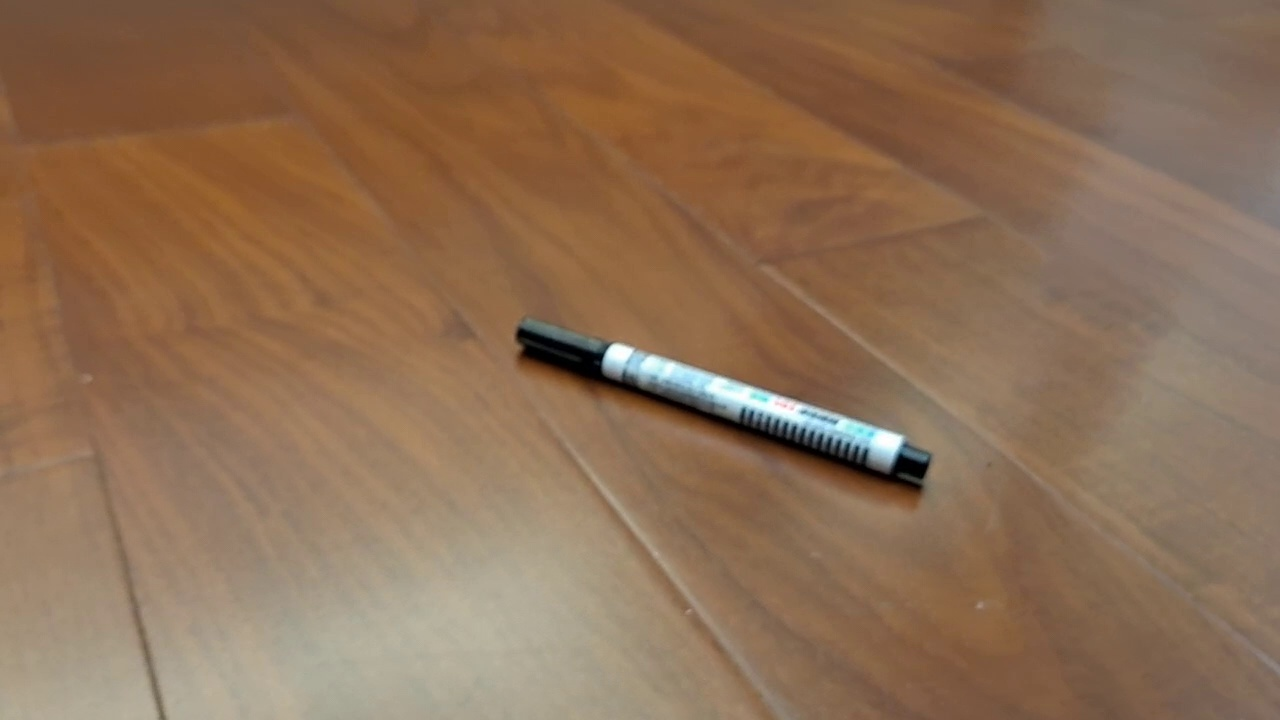pen: (514, 314, 933, 482)
